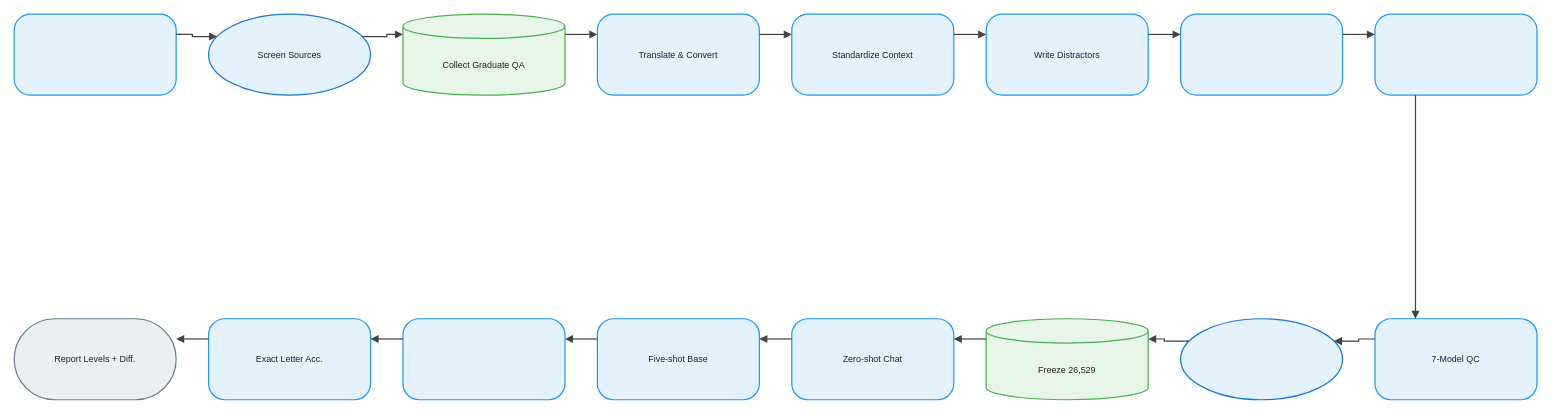
Some shapes in this 1552 by 415 pixel diagram are drawn without their labels. Here are the shapes that lost their labels. From the top down, the centre of each, then its label:
the point at 94,54: Set 13 / 72 / 285
the point at 1261,54: Check Leak & Difficulty
the point at 1455,54: Rule-based QC
the point at 483,359: Set Inference
the point at 1261,359: Expert Re-solve
